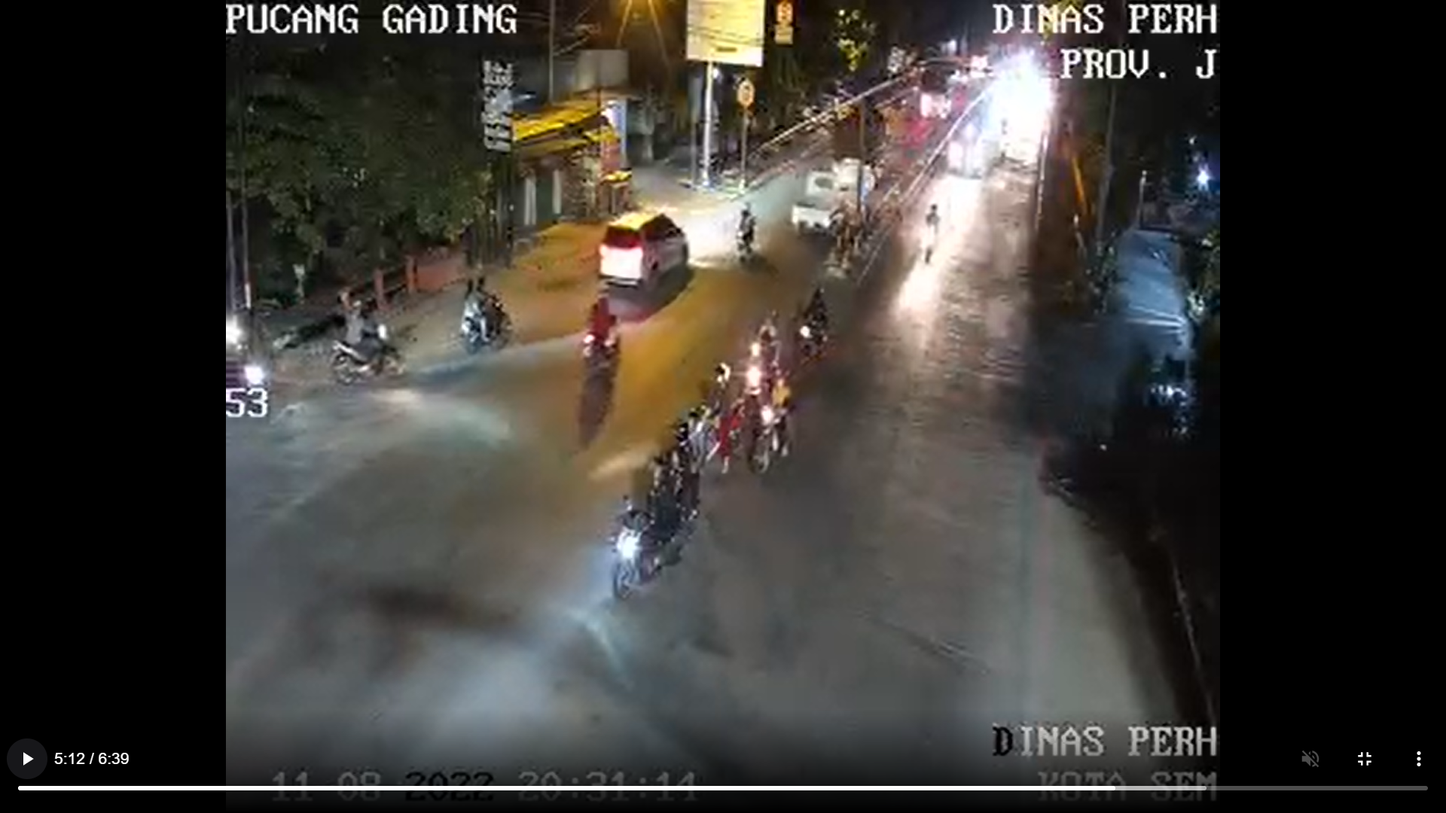with_helmet: (602, 409, 715, 607), (792, 276, 841, 367)
without_helmet: (569, 281, 633, 389), (452, 268, 518, 356)
